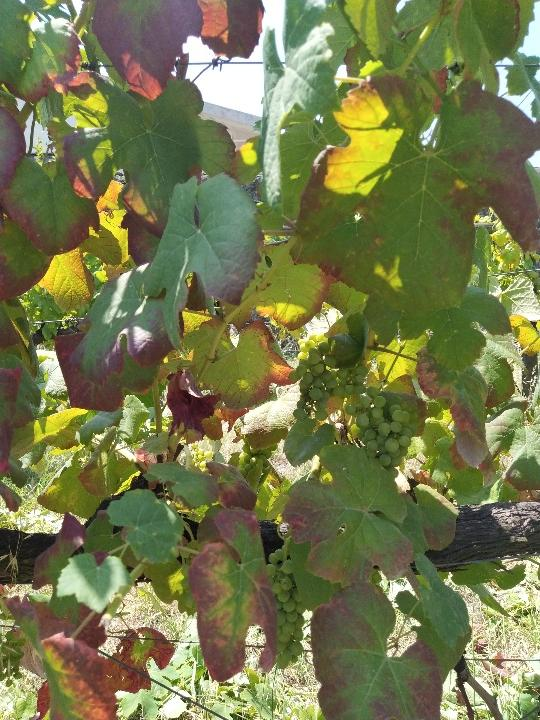grape: (287, 332, 370, 423), (344, 384, 414, 481), (263, 541, 308, 671)
